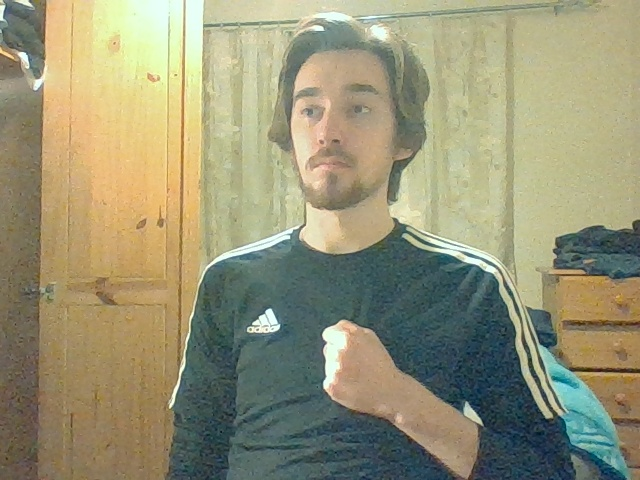my: (321, 320, 393, 407)
